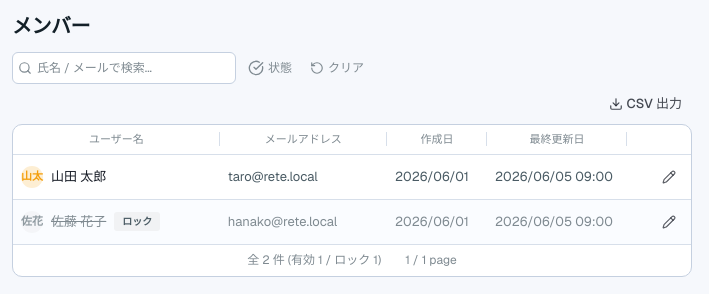
Test: MembersScreen › 検索で氏名・メールを絞り込む
The image size is (709, 294).
Step 1. Type "hanako" into the search field with placeholder "氏名 / メールで検索..." → coordinates (124, 68), box [12,52,236,84]
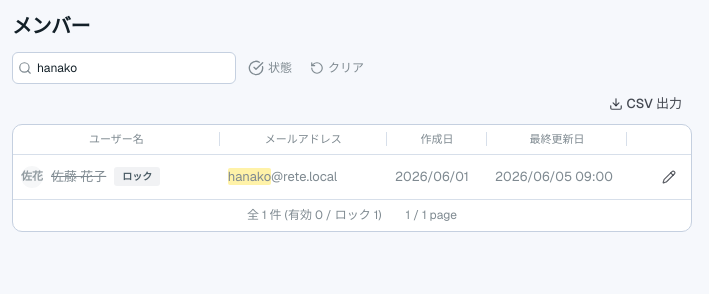
Check: the text "佐藤 花子" is shown, box [51,167,106,186]
Check: the text "山田 太郎" is gone
